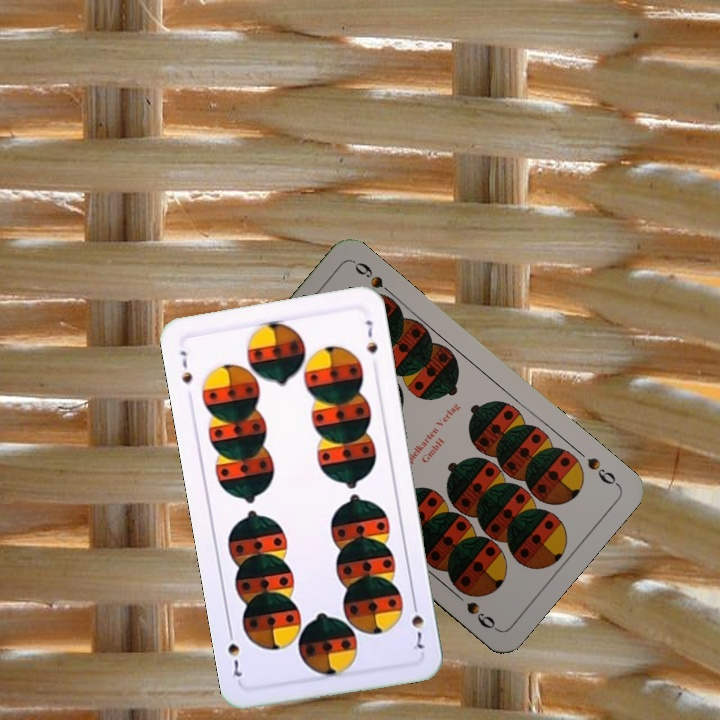S7: (407, 596, 426, 652), (176, 346, 195, 387)
S9: (583, 453, 622, 489)
